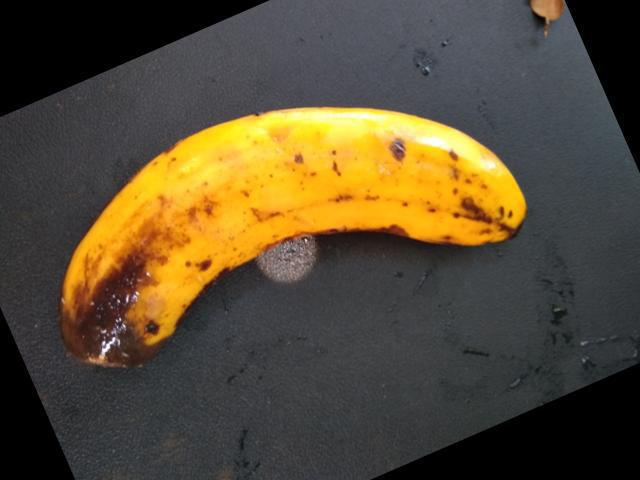overripe: (175, 93, 543, 304)
rotten: (34, 153, 206, 394)
